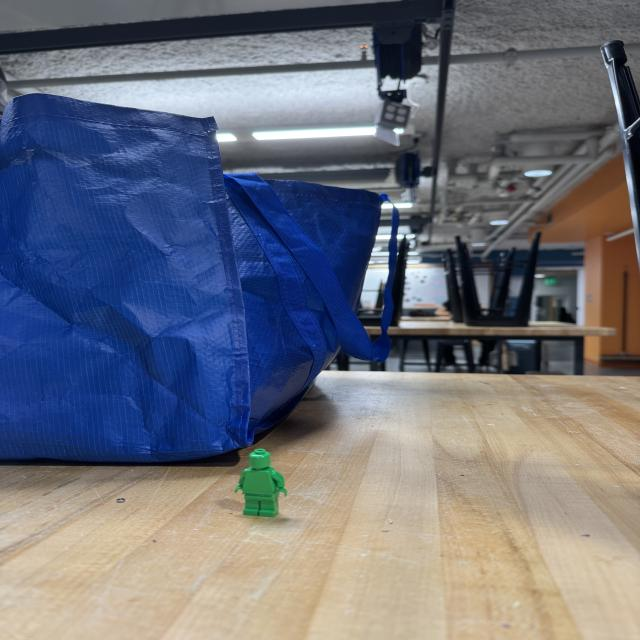Green Mini Figure: (234, 449, 287, 517)
